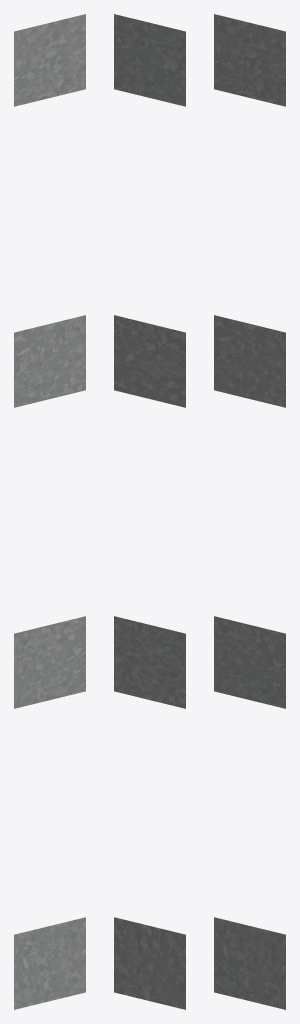
The model's file is GSDRailing3-Cap.FBX.
3 renders of one model, left to right at view 1: azimuth 30°, elevation 25°; view 2: azimuth 150°, elevation 25°; view 3: azimuth 330°, elevation 25°, orthographic.
Visible parts, largest first — view 1: GSDRailing3-Cap; view 2: GSDRailing3-Cap; view 3: GSDRailing3-Cap.
Part boxes in pixels (bbox=[...]): GSDRailing3-Cap: bbox=[14, 14, 85, 1009]; GSDRailing3-Cap: bbox=[114, 14, 185, 1009]; GSDRailing3-Cap: bbox=[214, 14, 285, 1009].
Bounding box in the file's own units: 0.05 × 0.65 × 5.05e-07.
